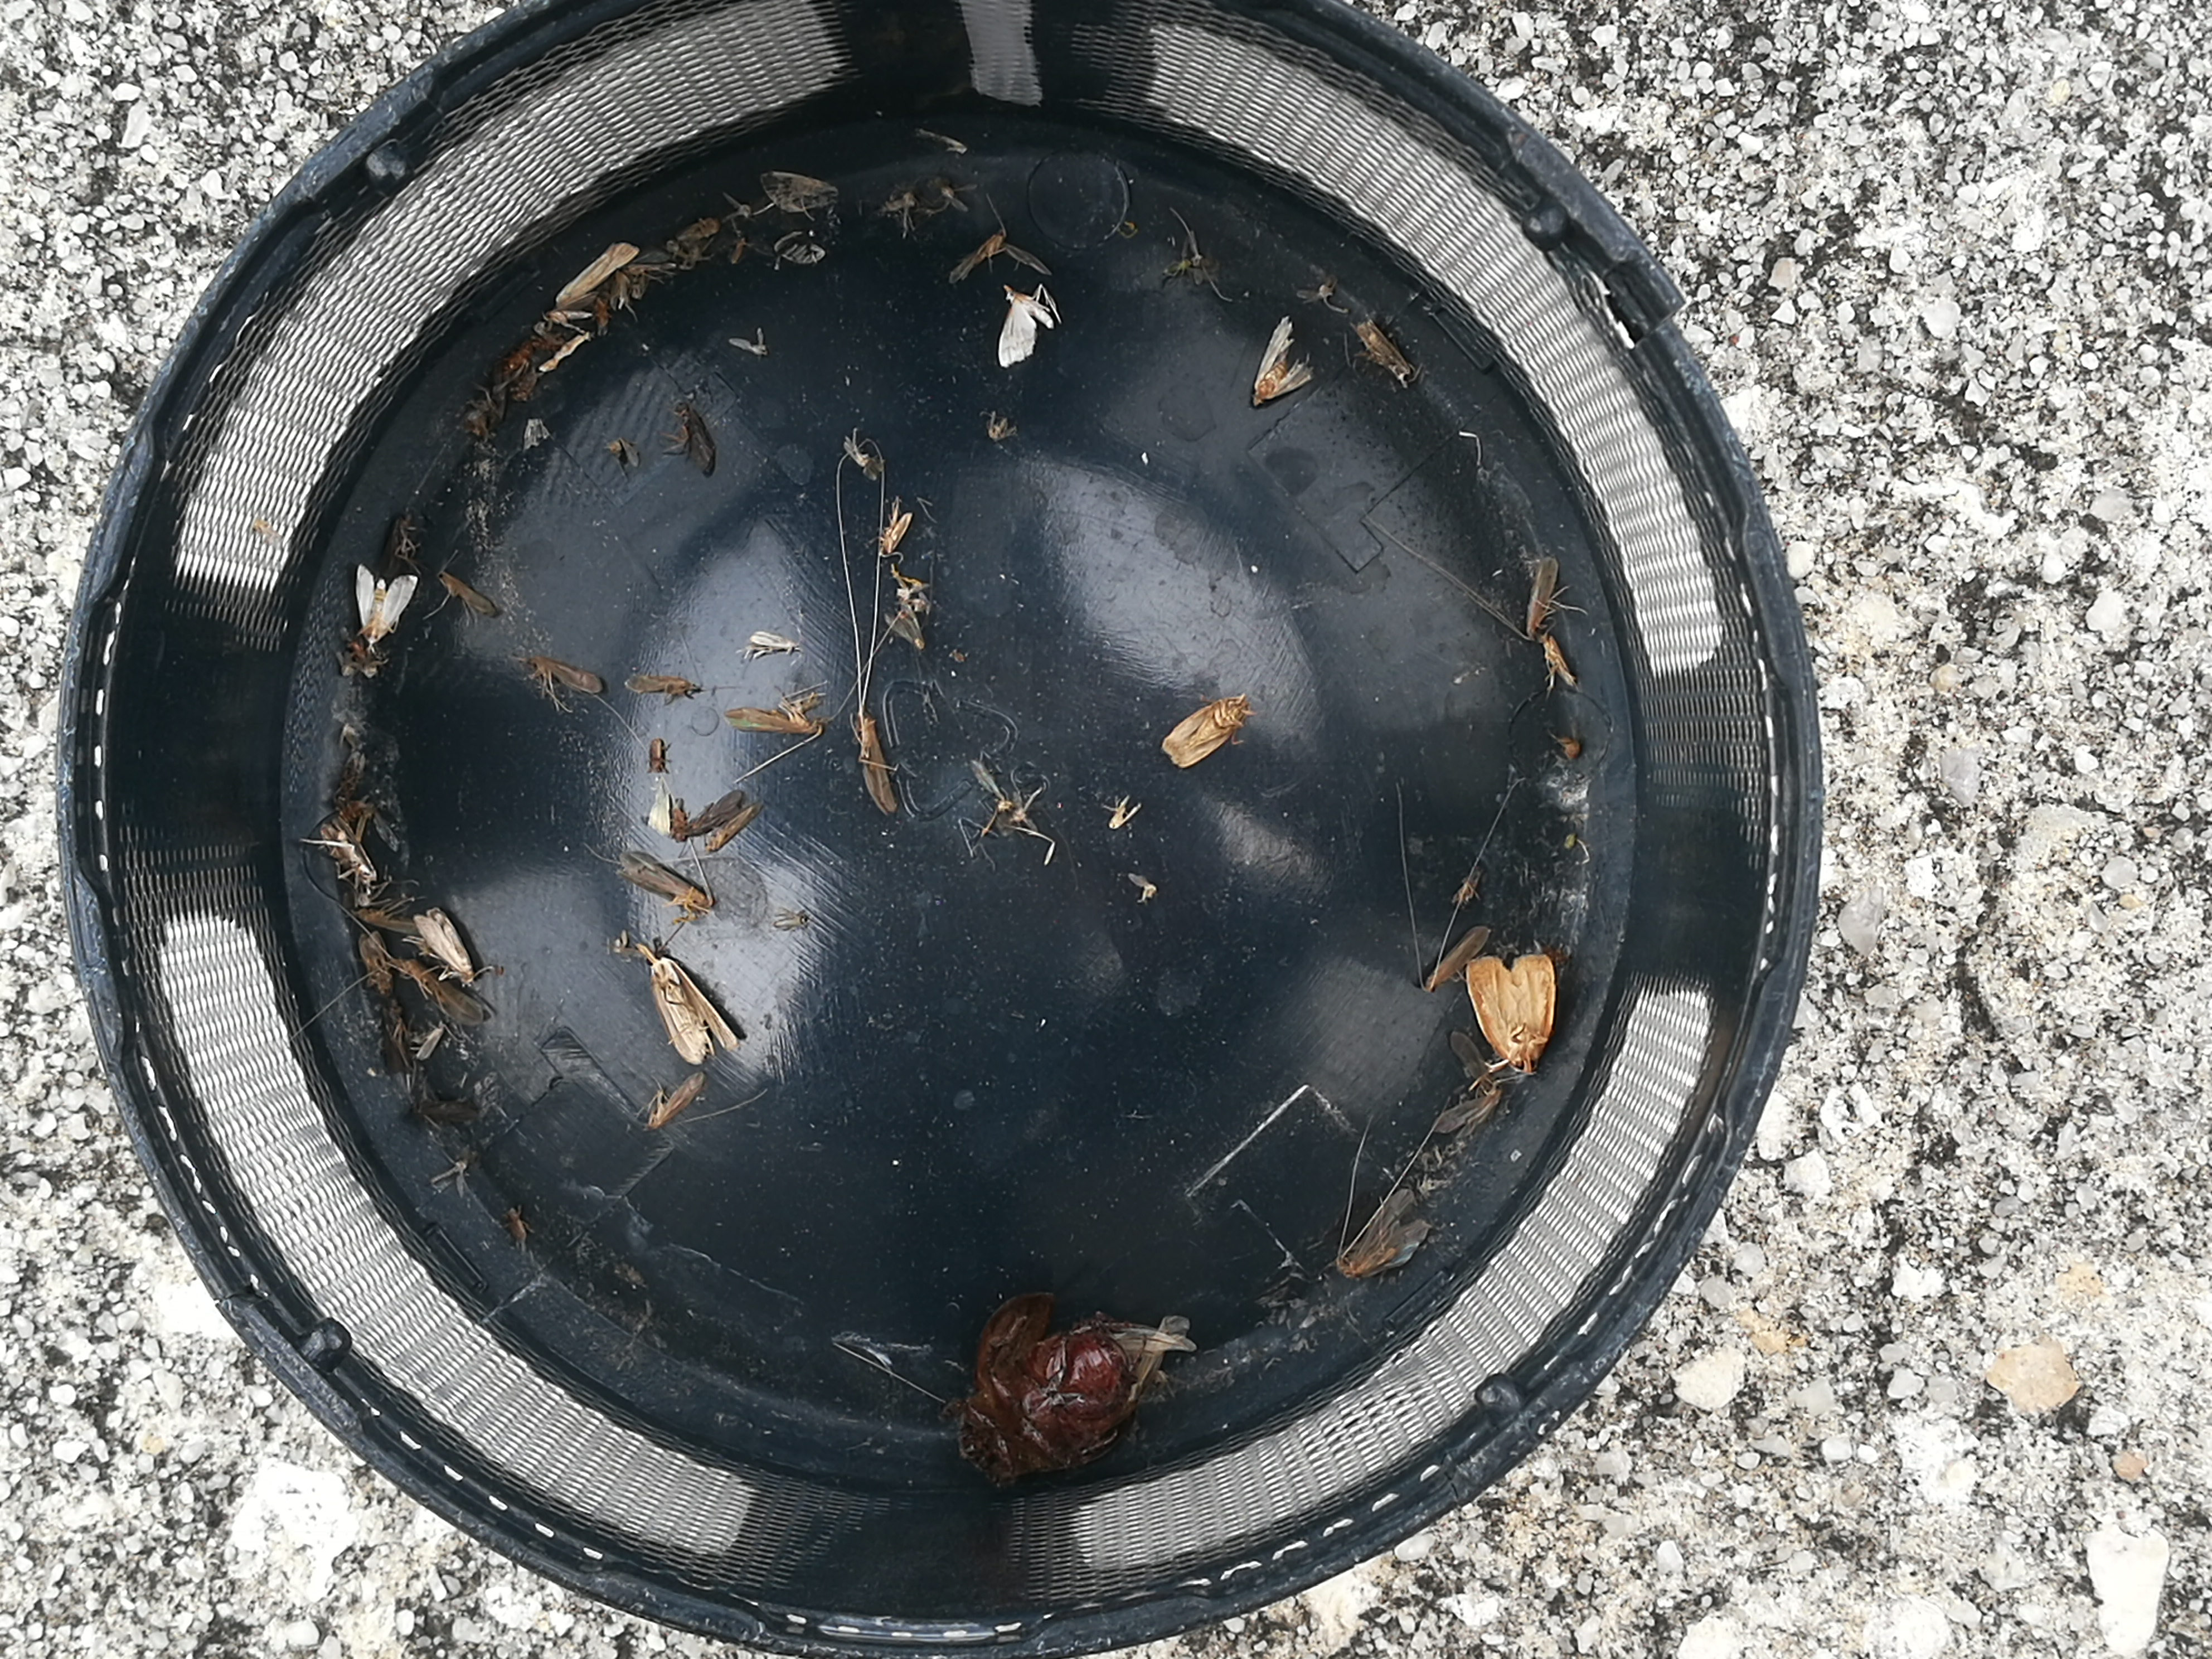beetle: (961, 1326, 1132, 1476)
mosquito: (620, 854, 711, 915), (399, 962, 489, 1021), (1426, 924, 1491, 985), (644, 1072, 707, 1129), (859, 716, 895, 814), (1355, 317, 1411, 380), (528, 655, 603, 697), (327, 823, 376, 885), (679, 789, 740, 838), (1524, 556, 1555, 640), (709, 803, 759, 850), (437, 572, 493, 613), (726, 709, 820, 734), (361, 932, 392, 999), (352, 910, 416, 938), (627, 676, 693, 694)
moth: (651, 957, 744, 1065), (1468, 957, 1554, 1068), (1339, 1188, 1433, 1279), (1163, 699, 1247, 769), (1251, 315, 1312, 404), (355, 566, 416, 647), (998, 288, 1052, 364), (418, 910, 474, 983)
